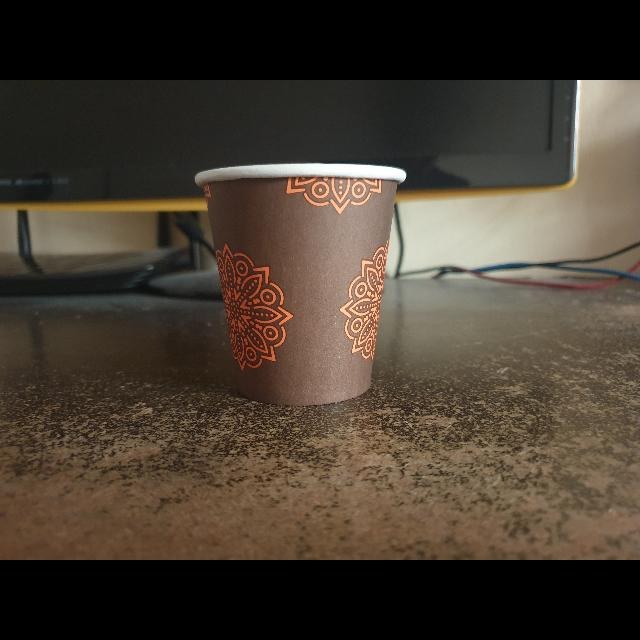trash: (196, 159, 414, 407)
